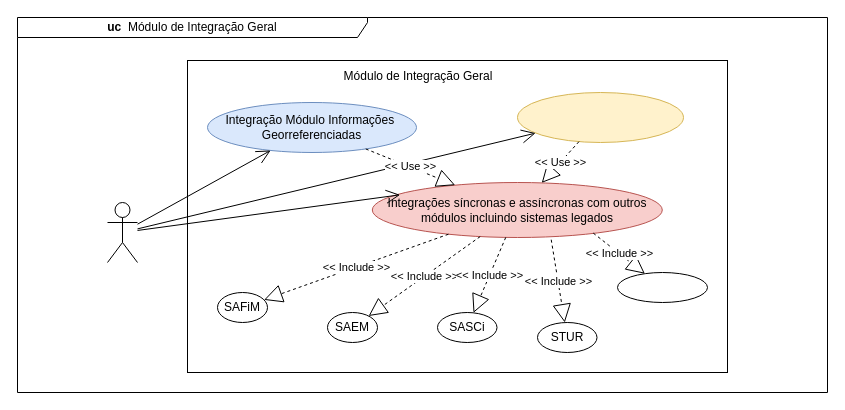
Image size: 845x410. Some labels were removed from this diagram. Here are the shapes that lost their labels. From the top down, the centre of each, then its label:
At pixel 600 117: "Integração Módulo de Serviços ao Cidadão".
At pixel 122 232: "Aplicação".
At pixel 662 287: "HOMEPAGE".
